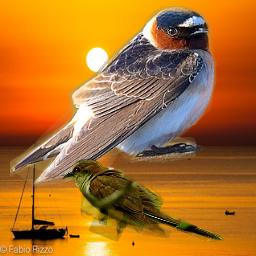Cuckoo: (62, 158, 224, 242)
Swallow: (10, 6, 217, 189)
